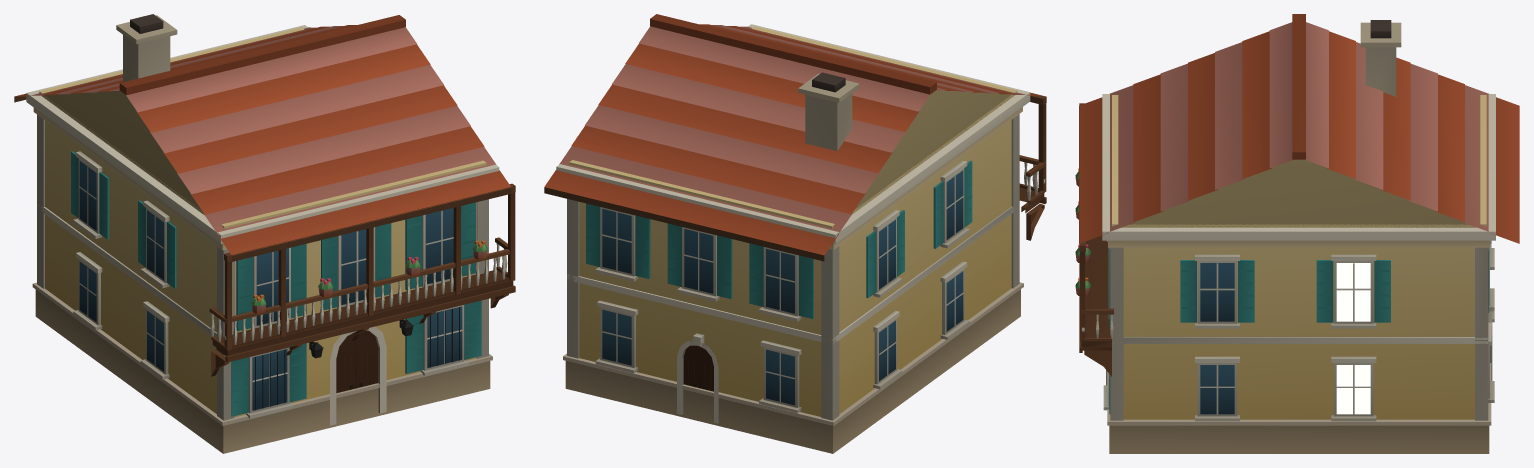
Rendered from casa_colonial_a.glb.
3 renders of one model, left to right at view 1: azimuth 30°, elevation 25°; view 2: azimuth 150°, elevation 25°; view 3: azimuth 270°, elevation 25°, orthographic.
Parts seen in each view (by area): view 1: casa_colonial_a; view 2: casa_colonial_a; view 3: casa_colonial_a.
Part boxes in pixels (x1=…): casa_colonial_a: x1=14, y1=14, x2=515, y2=453; casa_colonial_a: x1=544, y1=14, x2=1046, y2=453; casa_colonial_a: x1=1075, y1=14, x2=1519, y2=453.
Bounding box in the file's own units: 9.94 × 10.53 × 13.04.
